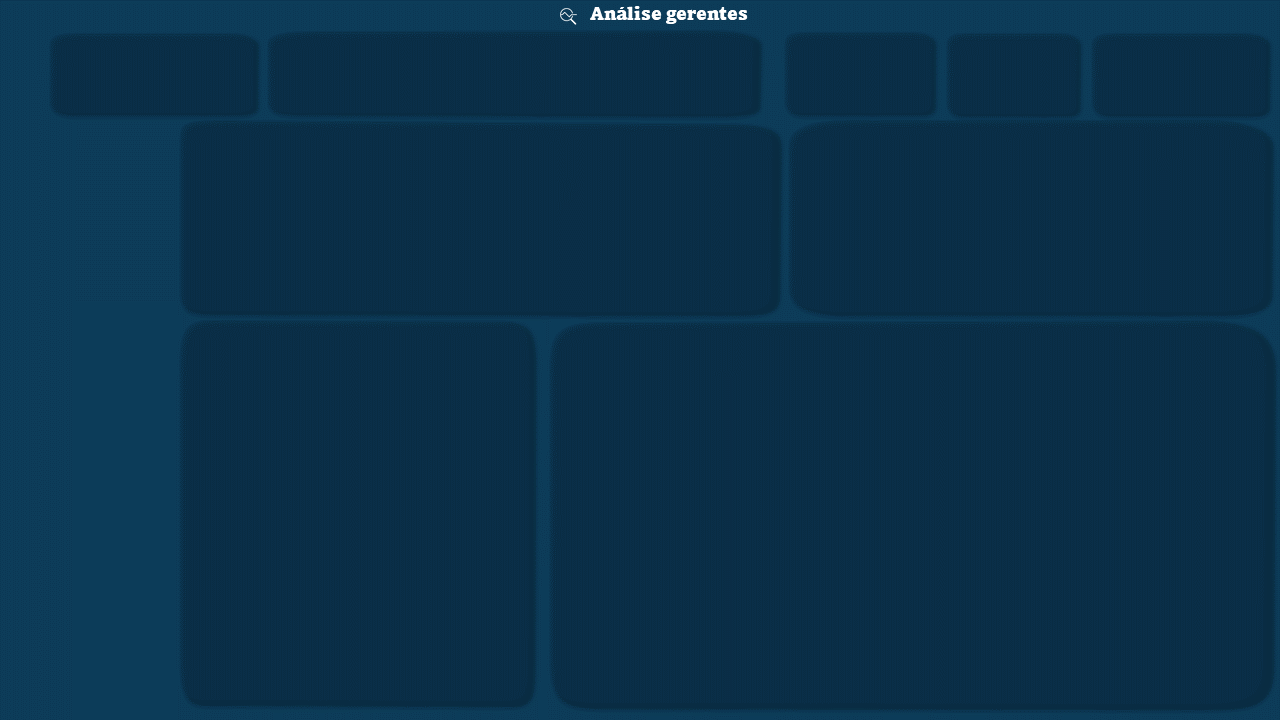

Layout of this report page (visuals, bound fields, positions):
{"tool":"powerbi","page":{"name":"Dash_gerentes","canvas":[1280,720],"ordinal":2},"visuals":[{"type":"tableEx","title":"Visão geral de Gerentes ","fields":{"Values":["Dim_regional.Gerente Regional","Dim_regional.Regional","Medidas.Faturamento","Medidas.Lucro","Medidas.Comissao_regional","Avg(Fato_vendas.Margem)","Dim_regional.Descrição"]},"box":[566.8,324.4,682.6,382.3],"z":0},{"type":"card","fields":{"Values":["Min(Dim_regional.Gerente Regional)"]},"box":[51.9,32.6,211.1,79.6],"z":1000},{"type":"card","fields":{"Values":["Min(Dim_regional.Descrição)"]},"box":[273.8,20.5,477.6,92.9],"z":2000},{"type":"card","fields":{"Values":["Min(Dim_regional.Regional)"]},"box":[791.2,31.4,144.7,79.6],"z":3000},{"type":"clusteredColumnChart","fields":{"Y":["Medidas.Faturamento"],"Category":["Tb_calendario.Date.Variation.Hierarquia de datas.Trimestre"]},"box":[188.1,119.4,587.3,193],"z":4000},{"type":"filledMap","fields":{"Category":["Dim_regional.Descrição"],"Series":["Dim_regional.Regional"]},"box":[188.1,324.4,334.1,371.5],"z":5000},{"type":"card","fields":{"Values":["Avg(Fato_vendas.Comissao_regional)"]},"box":[946.7,31.4,133.9,79.6],"z":6000},{"type":"lineStackedColumnComboChart","title":"Volume de vendas e Média de Margem por Trimestre","fields":{"Category":["Tb_calendario.Date.Variation.Hierarquia de datas.Trimestre"],"Y":["Medidas.Volume_vendas"],"Y2":["Avg(Fato_vendas.Margem)"]},"box":[786.3,119.4,493.3,205],"z":7000},{"type":"slicer","fields":{"Values":["Tb_calendario.Date.Variation.Hierarquia de datas.Ano"]},"box":[9.4,117.7,161.6,70],"z":8000},{"type":"slicer","fields":{"Values":["Tb_calendario.Date.Variation.Hierarquia de datas.Mês"]},"box":[9.4,209.4,162,70],"z":9000},{"type":"slicer","fields":{"Values":["Dim_produtos.Grupo_Produto"]},"box":[9.4,289,161.6,70],"z":10000},{"type":"slicer","fields":{"Values":["Dim_produtos.Linha_Produto"]},"box":[9.4,372.2,161.6,70],"z":11000},{"type":"slicer","fields":{"Values":["Dim_regional.Gerente Regional"]},"box":[9.4,450.6,161.6,70],"z":12000},{"type":"slicer","fields":{"Values":["Dim_regional.UF"]},"box":[9.4,527.8,161.6,70],"z":13000},{"type":"slicer","fields":{"Values":["Dim_regional.Regional"]},"box":[9.4,604.9,161.6,70],"z":14000},{"type":"kpi","title":"Margem de venda média trimestral","fields":{"Indicator":["Avg(Fato_vendas.Margem)"],"Goal":["Medidas.Meta_margem"],"TrendLine":["Tb_calendario.Date.Variation.Hierarquia de datas.Trimestre"]},"box":[1091.5,31.4,171.3,82],"z":15000},{"type":"actionButton","box":[1249.4,0,30.2,25.3],"z":16000},{"type":"actionButton","box":[54.3,0,26.5,25.3],"z":17000}]}

Visuals, with their boxes on the page's 1280x720 design canvas (x1, y1, x2, y2). These are canvas units, not pixel positions in the 1280x720 screenshot, which may show the page scaled, cropped or inside an application window:
"Visão geral de Gerentes " tableEx: (567,324,1249,707)
card - Min(Dim_regional.Gerente Regional): (52,33,263,112)
card - Min(Dim_regional.Descrição): (274,20,751,113)
card - Min(Dim_regional.Regional): (791,31,936,111)
clusteredColumnChart - Medidas.Faturamento x Tb_calendario.Date.Variation.Hierarquia de datas.Trimestre: (188,119,775,312)
filledMap - Dim_regional.Descrição x Dim_regional.Regional: (188,324,522,696)
card - Avg(Fato_vendas.Comissao_regional): (947,31,1081,111)
"Volume de vendas e Média de Margem por Trimestre" lineStackedColumnComboChart: (786,119,1280,324)
slicer - Tb_calendario.Date.Variation.Hierarquia de datas.Ano: (9,118,171,188)
slicer - Tb_calendario.Date.Variation.Hierarquia de datas.Mês: (9,209,171,279)
slicer - Dim_produtos.Grupo_Produto: (9,289,171,359)
slicer - Dim_produtos.Linha_Produto: (9,372,171,442)
slicer - Dim_regional.Gerente Regional: (9,451,171,521)
slicer - Dim_regional.UF: (9,528,171,598)
slicer - Dim_regional.Regional: (9,605,171,675)
"Margem de venda média trimestral" kpi: (1092,31,1263,113)
actionButton: (1249,0,1280,25)
actionButton: (54,0,81,25)
